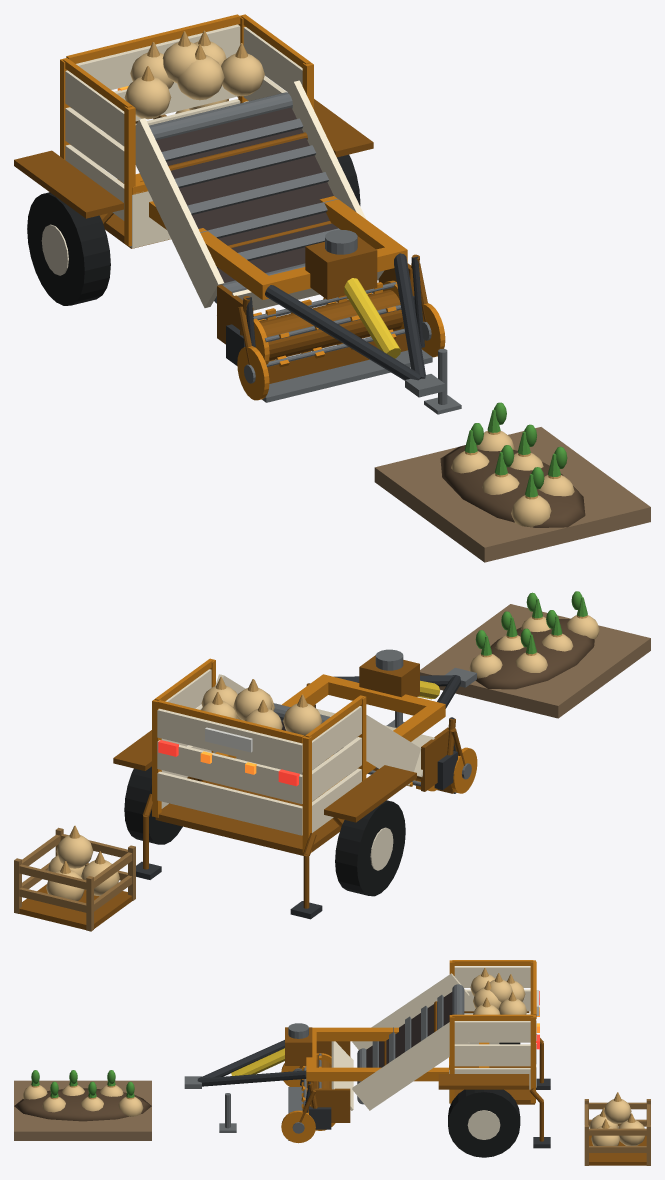
Rendered from onion_harvester.glb.
3 views of the same model, one above another, from view 1: azimuth 30°, elevation 25°; view 2: azimuth 150°, elevation 25°; view 3: azimuth 270°, elevation 25° (orthographic). The views are drawn at different scales.
Parts seen in each view (by area): view 1: OnionBody, OnionProps, OnionPickup; view 2: OnionBody, OnionProps; view 3: OnionBody, OnionProps, OnionPickup.
Part boxes in pixels (bbox=[...]): OnionBody: bbox=[14, 14, 461, 414]; OnionProps: bbox=[135, 96, 650, 562]; OnionPickup: bbox=[253, 280, 405, 367]; OnionBody: bbox=[113, 649, 477, 919]; OnionProps: bbox=[14, 591, 650, 931]; OnionBody: bbox=[184, 960, 550, 1157]; OnionProps: bbox=[14, 1070, 650, 1165]; OnionPickup: bbox=[301, 1053, 335, 1130].
Size of the model in its own units: 2.59 by 1.83 by 7.38.
